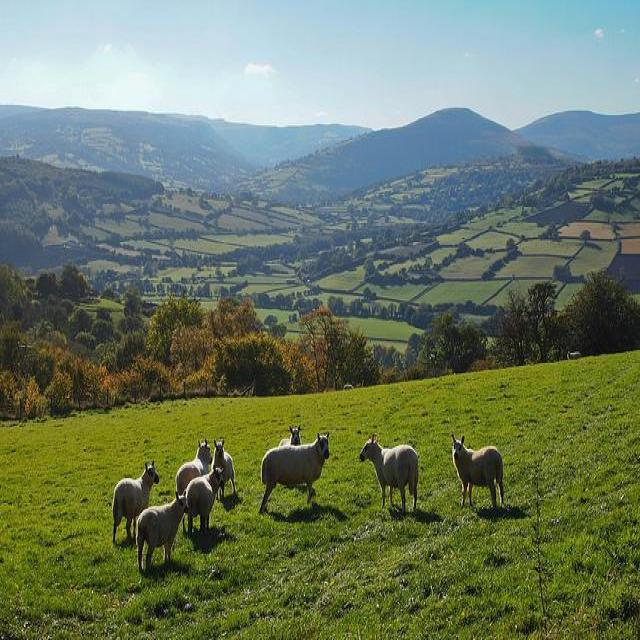Sheep: (259, 433, 331, 516), (360, 432, 419, 513), (137, 488, 189, 573), (451, 434, 504, 510), (112, 459, 160, 541), (186, 466, 227, 538), (177, 438, 213, 496)
